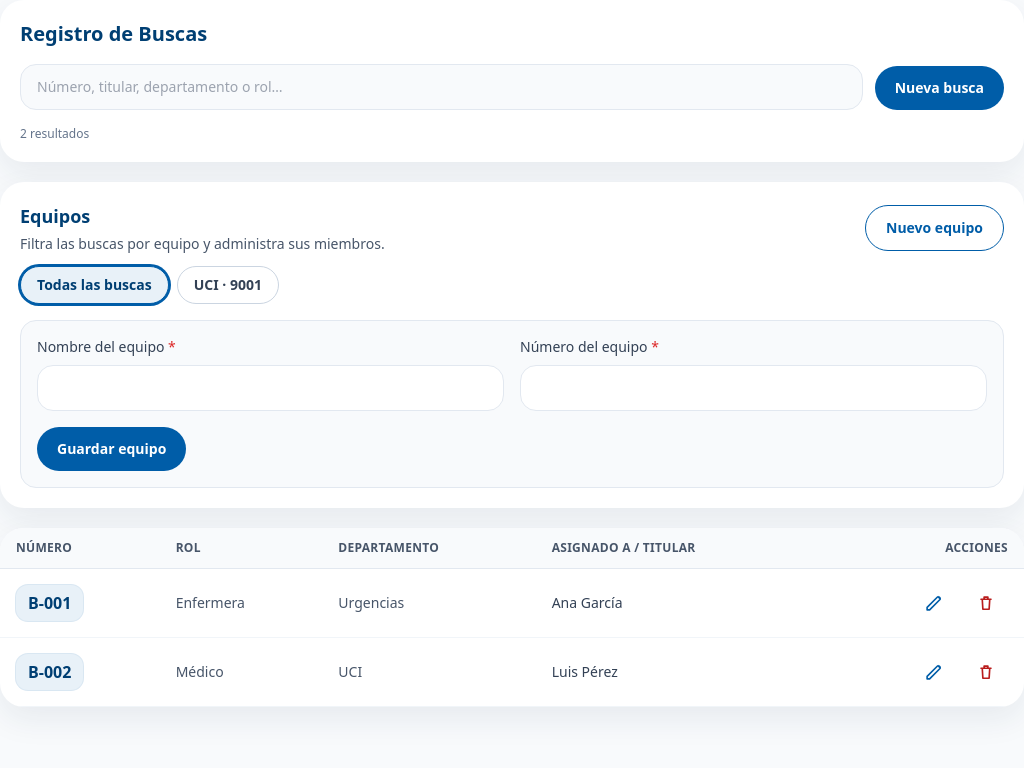
Test case: BeepersPage › guides the operator to add members when the selected team is empty
expect the text "B-001" is shown: met, box 16,585 -> 83,621
Step 1. Click the button "UCI · 9001" → [228, 285], box 177,266 -> 279,304
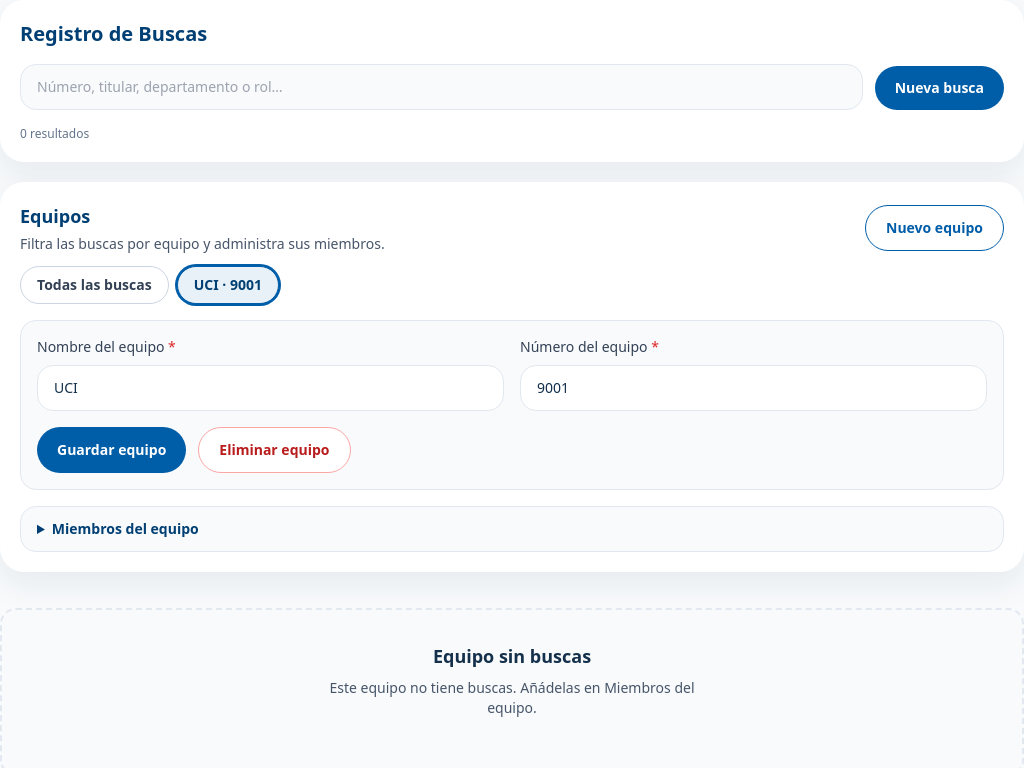
expect the heading "Equipo sin buscas" is shown: met, box 433,642 -> 591,670
expect the text "Este equipo no tiene buscas. Añádelas en Miembros del equipo." is shown: met, box 320,678 -> 704,718
expect the table is gone: met
